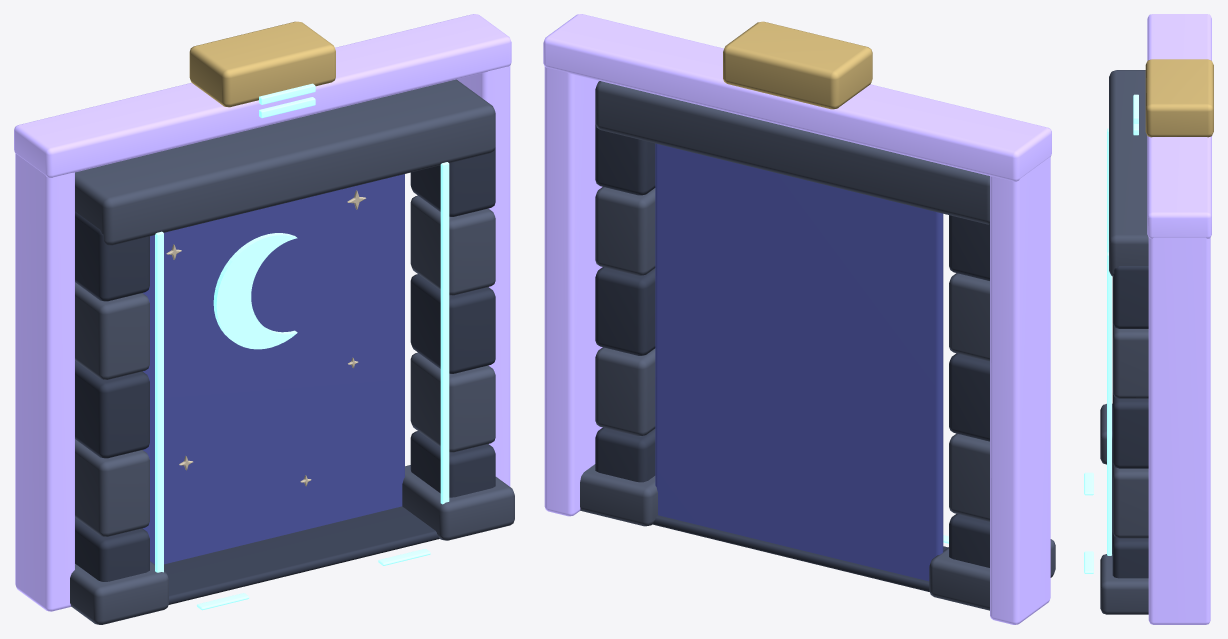
Rendered from floor_exit.glb.
3 renders of one model, left to right at view 1: azimuth 30°, elevation 25°; view 2: azimuth 150°, elevation 25°; view 3: azimuth 270°, elevation 25°, orthographic. The views are drawn at different scales.
Parts seen in each view (by area): view 1: Portal_surface, Floor_exit_lintel, Floor_exit_outer_pier_-1, Floor_exit_second_lintel, Floor_exit_threshold, Floor_exit_crown, Floor_exit_outer_pier_1, Floor_exit_jamb_1_1, Floor_exit_jamb_1_2, Floor_exit_jamb_1_3, Floor_exit_jamb_-1_1, Floor_exit_jamb_-1_2 (+10 smaller); view 2: Portal_surface, Floor_exit_outer_pier_-1, Floor_exit_second_lintel, Floor_exit_outer_pier_1, Floor_exit_lintel, Floor_exit_crown, Floor_exit_jamb_1_1, Floor_exit_jamb_1_2, Floor_exit_jamb_1_3, Floor_exit_foot_1, Floor_exit_jamb_1_4, Floor_exit_jamb_-1_1 (+7 smaller); view 3: Floor_exit_outer_pier_1, Floor_exit_second_lintel, Floor_exit_lintel, Floor_exit_crown, Floor_exit_jamb_1_2, Floor_exit_jamb_1_1, Floor_exit_jamb_1_3, Floor_exit_jamb_1_4, Floor_exit_foot_1, Floor_exit_jamb_1_0, Floor_exit_inner_light_1, Floor_exit_foot_-1 (+3 smaller).
Part boxes in pixels (left/top/right/bottom): Portal_surface: left=143, top=174, right=404, bottom=564; Floor_exit_lintel: left=75, top=79, right=495, bottom=245; Floor_exit_outer_pier_-1: left=15, top=154, right=74, bottom=611; Floor_exit_second_lintel: left=14, top=14, right=511, bottom=177; Floor_exit_threshold: left=164, top=506, right=439, bottom=604; Floor_exit_crown: left=189, top=21, right=335, bottom=107; Floor_exit_outer_pier_1: left=457, top=65, right=510, bottom=486; Floor_exit_jamb_1_1: left=410, top=352, right=495, bottom=452; Floor_exit_jamb_1_2: left=410, top=274, right=495, bottom=373; Floor_exit_jamb_1_3: left=410, top=195, right=495, bottom=295; Floor_exit_jamb_-1_1: left=75, top=439, right=149, bottom=536; Floor_exit_jamb_-1_2: left=75, top=361, right=149, bottom=458; Portal_surface: left=655, top=143, right=943, bottom=581; Floor_exit_outer_pier_-1: left=990, top=157, right=1050, bottom=624; Floor_exit_second_lintel: left=543, top=14, right=1051, bottom=181; Floor_exit_outer_pier_1: left=544, top=67, right=602, bottom=516; Floor_exit_lintel: left=595, top=81, right=989, bottom=224; Floor_exit_crown: left=723, top=21, right=872, bottom=109; Floor_exit_jamb_1_1: left=595, top=347, right=655, bottom=436; Floor_exit_jamb_1_2: left=595, top=267, right=655, bottom=355; Floor_exit_jamb_1_3: left=595, top=187, right=655, bottom=275; Floor_exit_foot_1: left=580, top=464, right=657, bottom=526; Floor_exit_jamb_1_4: left=595, top=124, right=655, bottom=195; Floor_exit_jamb_-1_1: left=949, top=433, right=989, bottom=521; Floor_exit_outer_pier_1: left=1148, top=237, right=1210, bottom=624; Floor_exit_second_lintel: left=1147, top=14, right=1211, bottom=238; Floor_exit_lintel: left=1109, top=70, right=1148, bottom=276; Floor_exit_crown: left=1145, top=59, right=1213, bottom=137; Floor_exit_jamb_1_2: left=1112, top=393, right=1148, bottom=468; Floor_exit_jamb_1_1: left=1112, top=463, right=1148, bottom=538; Floor_exit_jamb_1_3: left=1112, top=323, right=1148, bottom=398; Floor_exit_jamb_1_4: left=1112, top=266, right=1148, bottom=328; Floor_exit_foot_1: left=1100, top=554, right=1148, bottom=614; Floor_exit_jamb_1_0: left=1112, top=532, right=1148, bottom=578; Floor_exit_inner_light_1: left=1107, top=252, right=1111, bottom=555; Floor_exit_foot_-1: left=1100, top=403, right=1112, bottom=464.
Bounding box in the file's own units: 3.85 × 3.95 × 1.04.
